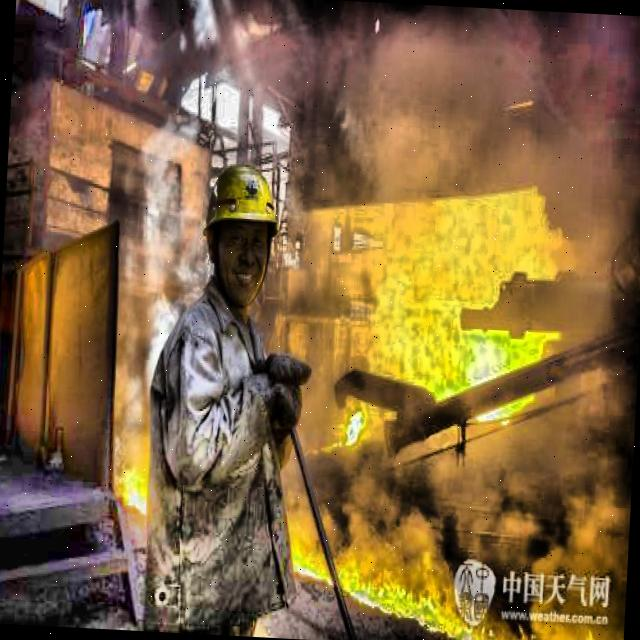helmet: (196, 152, 288, 314)
